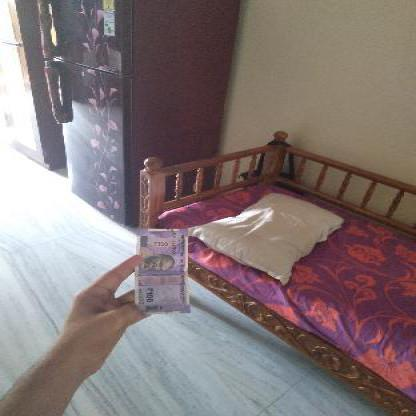New100Front: (133, 226, 184, 318)
